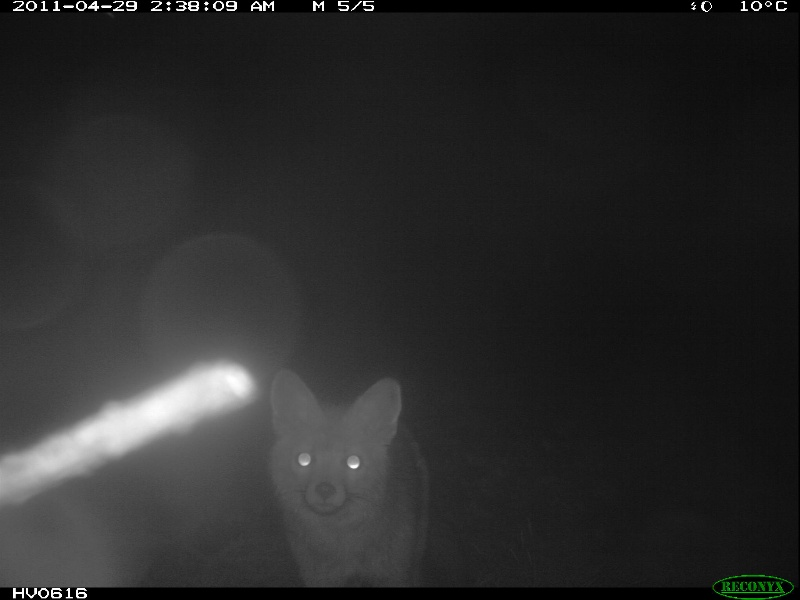fox: (261, 363, 436, 587)
